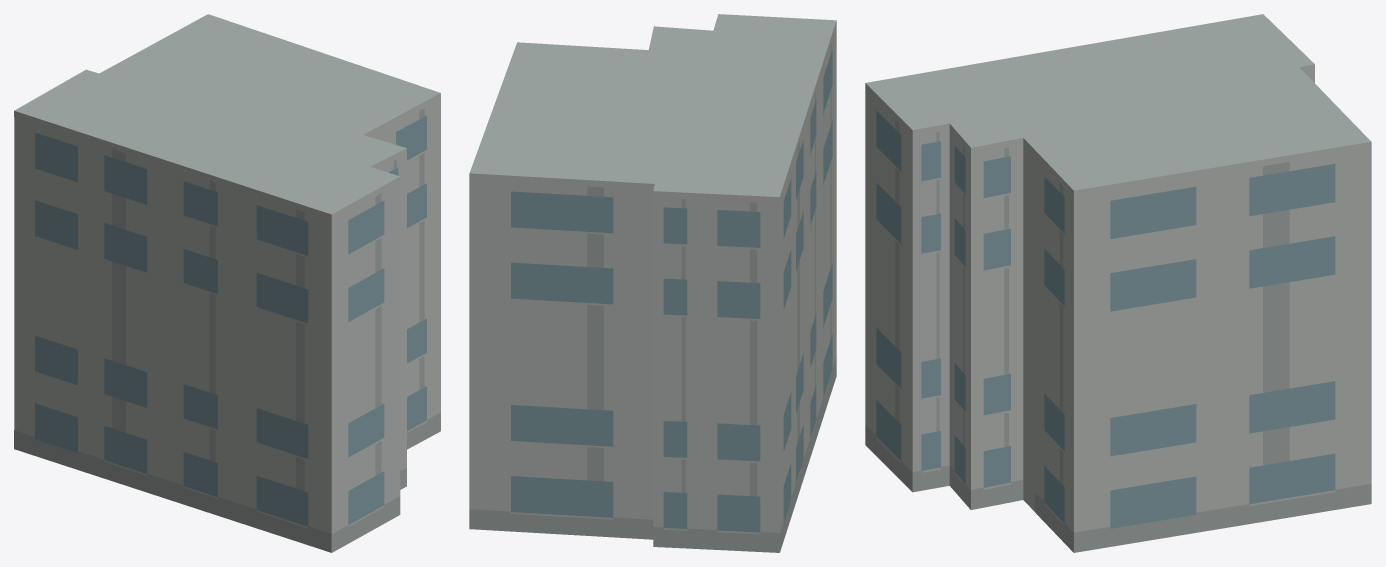
File: survey-upis-32921262.glb
3 views of the same model, side by side, from view 1: azimuth 30°, elevation 25°; view 2: azimuth 150°, elevation 25°; view 3: azimuth 270°, elevation 25° (orthographic). The views are drawn at different scales.
Visible parts, largest first — view 1: survey-upis-32921262.tmp; view 2: survey-upis-32921262.tmp; view 3: survey-upis-32921262.tmp.
Part boxes in pixels (x1,y1,x2,y2): survey-upis-32921262.tmp: [14, 14, 440, 552]; survey-upis-32921262.tmp: [469, 14, 836, 552]; survey-upis-32921262.tmp: [865, 14, 1371, 552].
Size of the model in its own units: 13.82 by 13.2 by 16.73.
